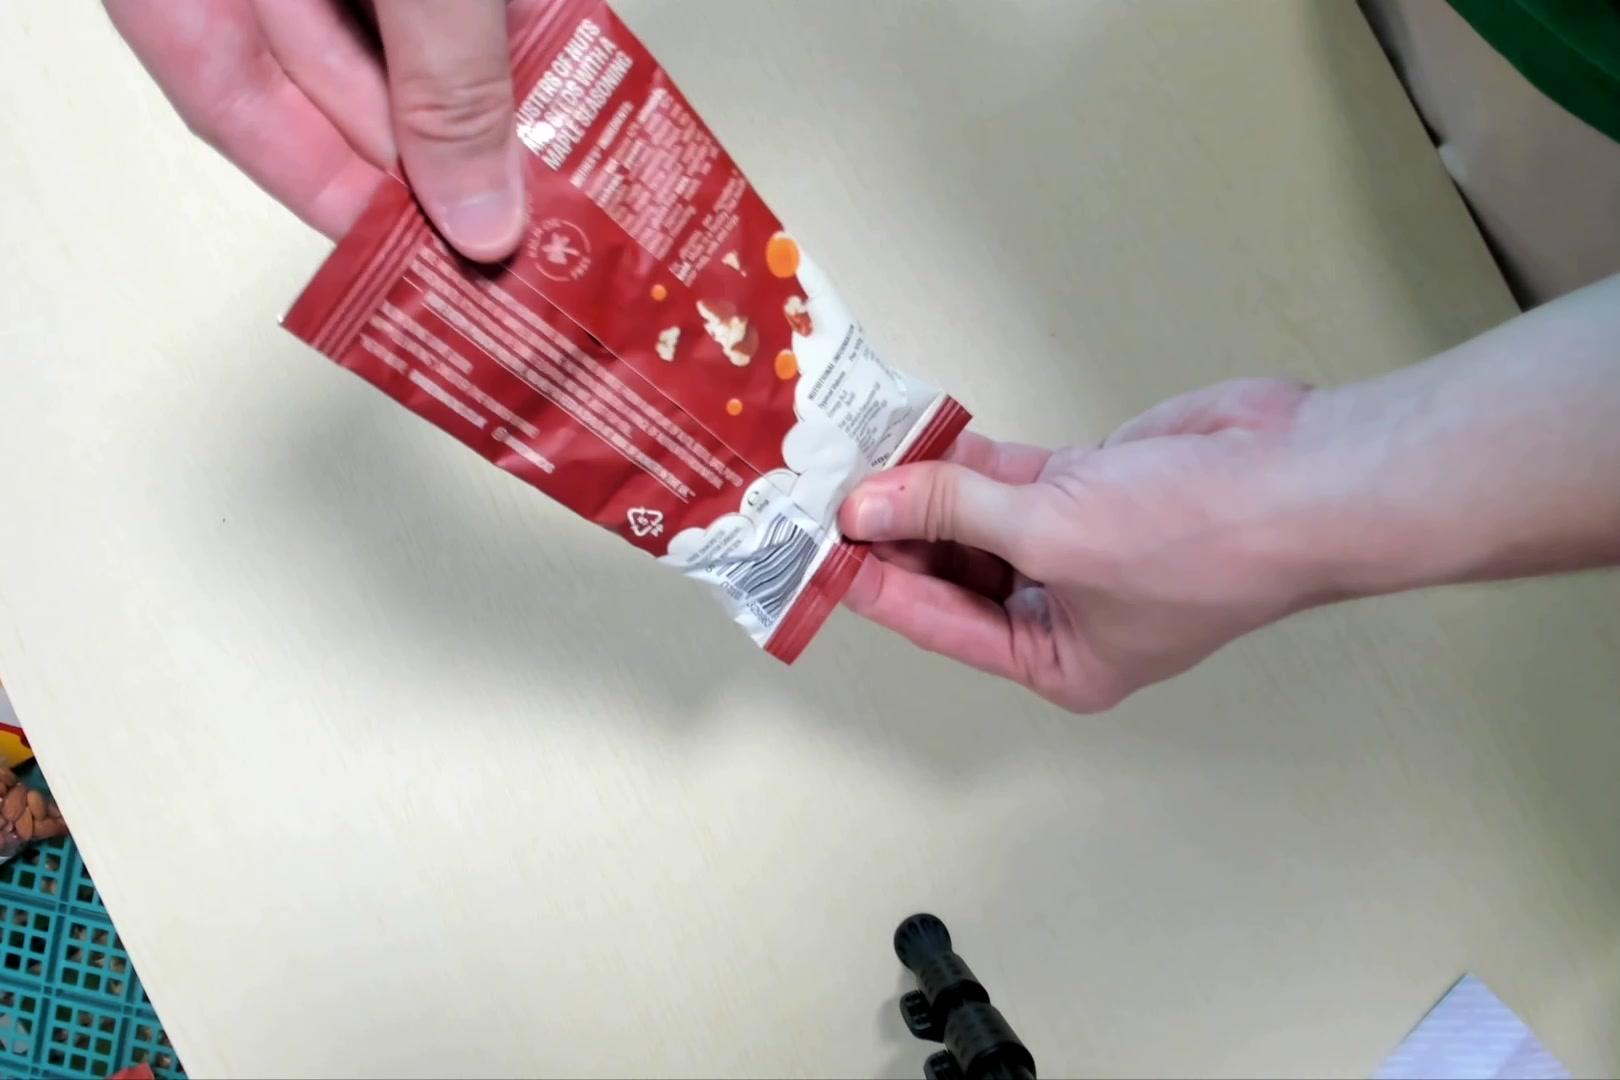Nuts_0-99g_NonHalal_NonHealthy: (297, 16, 979, 675)
